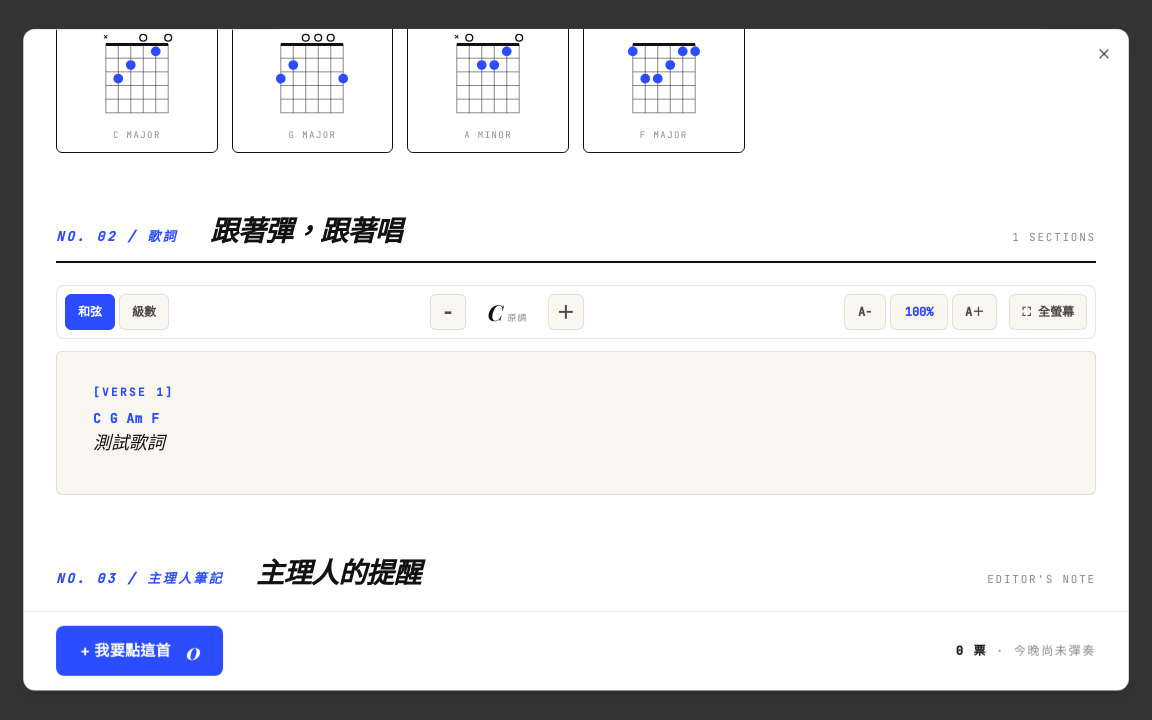
收藏 AI 吉他譜顯示控制 › 可在看譜功能列自由升降半音並恢復原調
This screenshot has width=1152, height=720.
(page scrolled)
Step 1. Click the button named "收藏譜升高半音" → x=566, y=312, box [548,294,584,330]
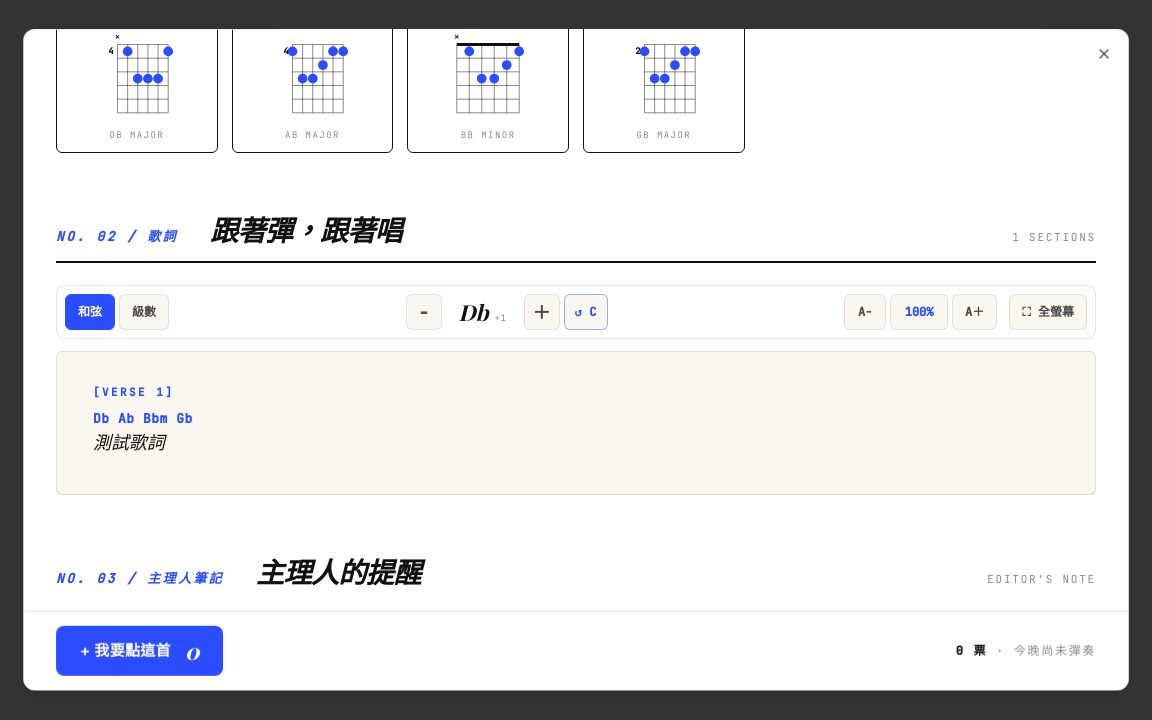
Expected: the element named "收藏譜目前調性" reads "Db +1", [458,297,507,327]
Expected: the text with class "sdp-lyr-chord" reads "Db Ab Bbm Gb", [93,410,193,427]
Step 2. Click the button named "收藏譜回到原調 C" → x=586, y=312, box [564,294,608,330]
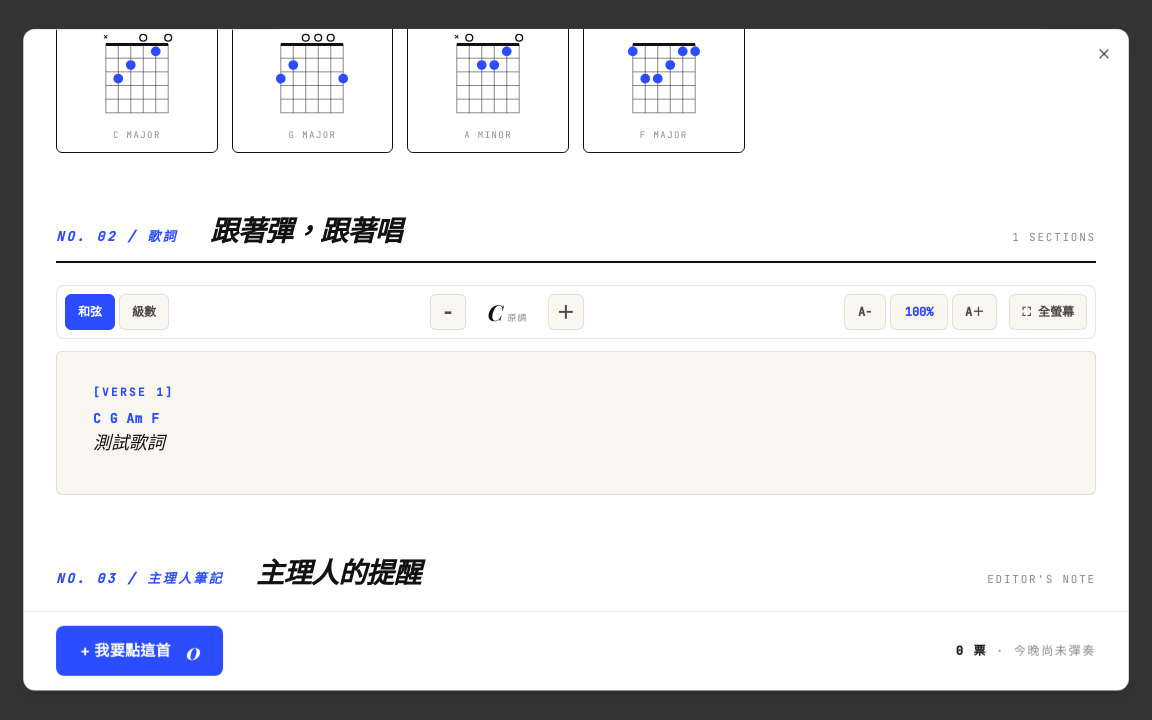
Expected: the element named "收藏譜目前調性" reads "C 原調", [486,297,527,327]
Expected: the text with class "sdp-lyr-chord" reads "C G Am F", [93,410,160,427]
